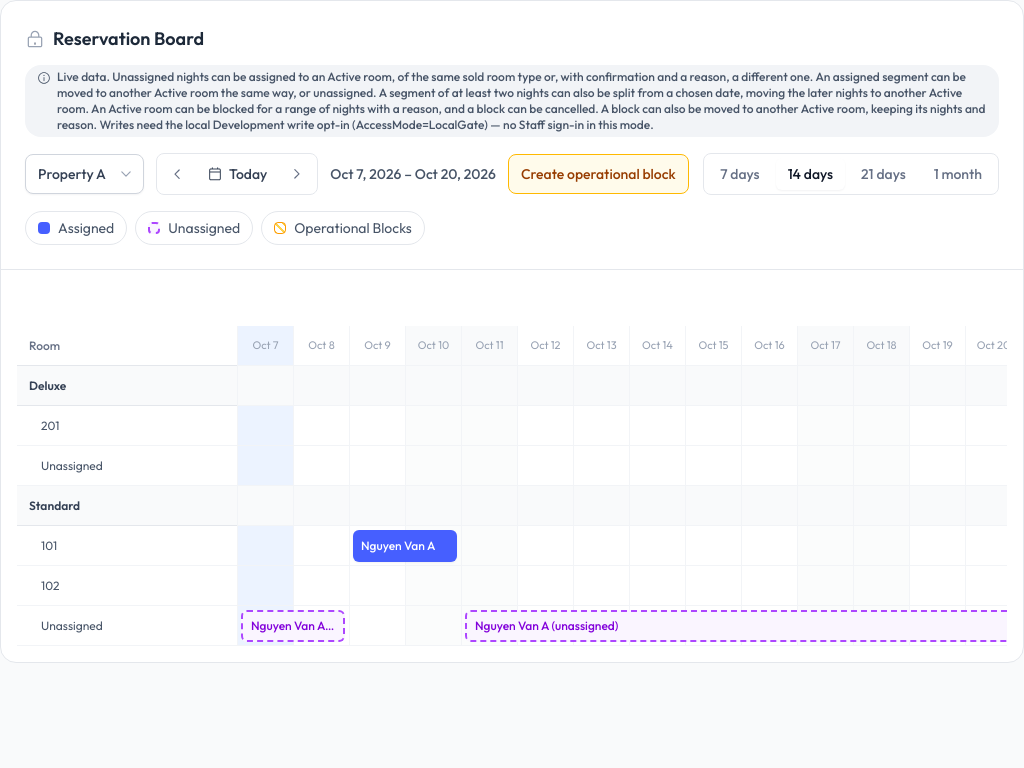
ReservationBoard — same-RoomType assignment (PMS-CAL-001.2-CP03A) › starts only one request for a double click, repeated Enter, or several submits in the same tick
Click the 1st button "Nguyen Van A (unassigned)" at (293, 626), box [241,610,345,642]
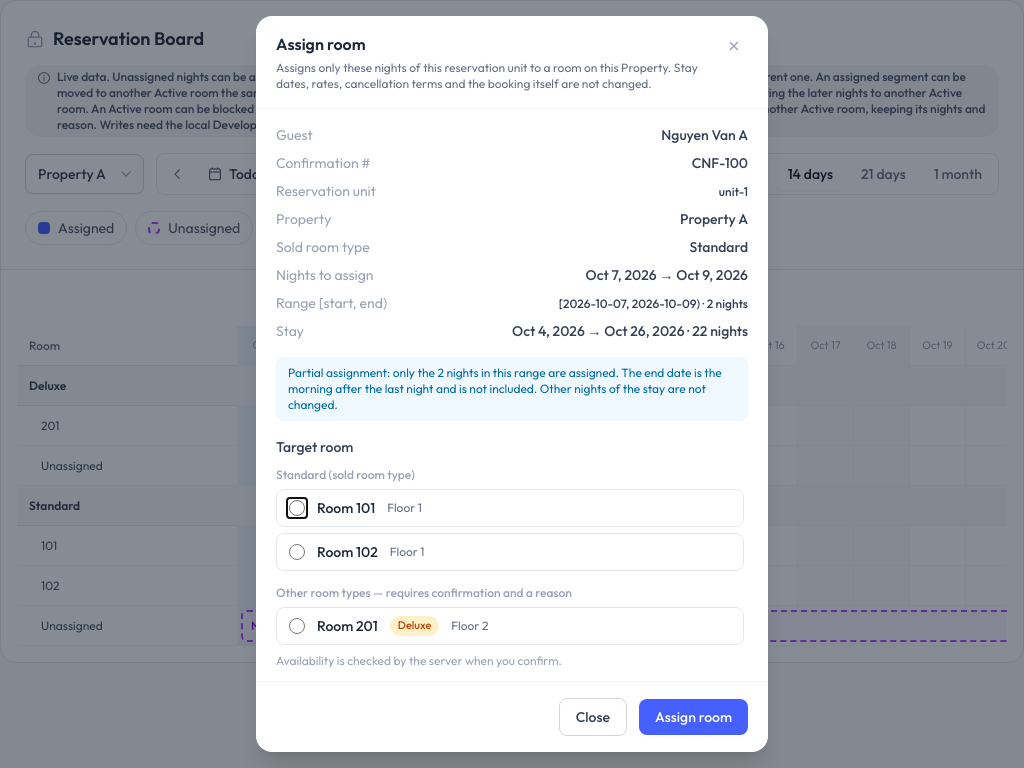
Click the radio button labelled "Room 102 Floor 1" at (297, 552), box [289,544,305,560]
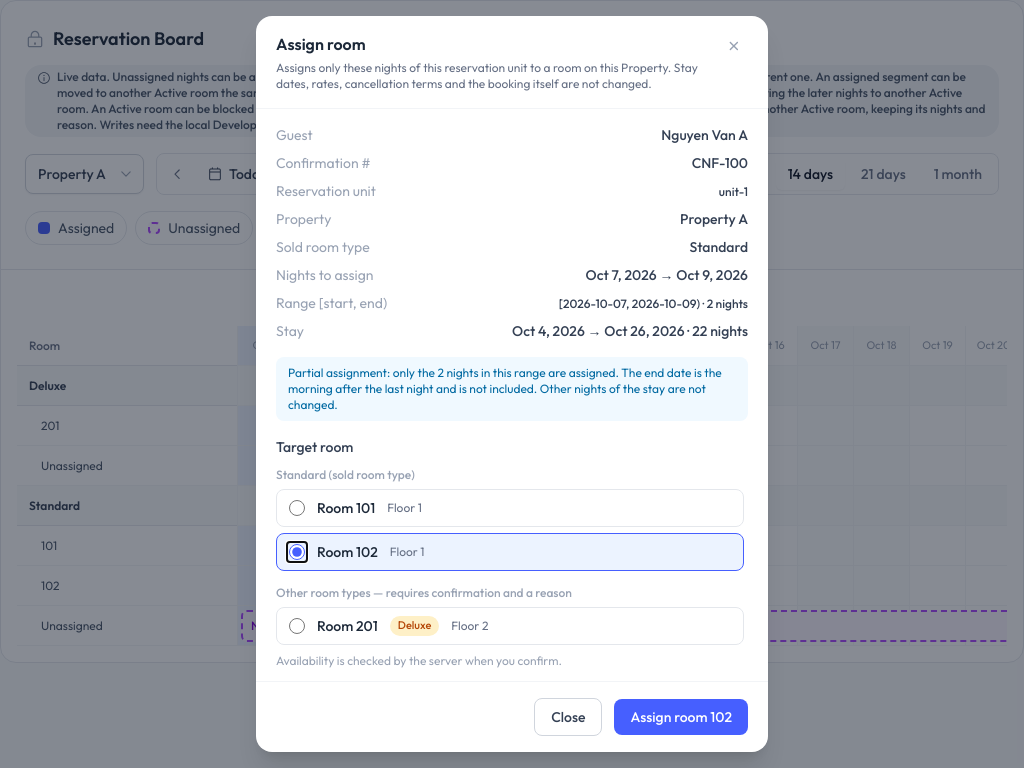
Submit the form named "Assign room 102", box [256,109,768,752]
Submit the form named "Assign room 102", box [256,109,768,752]
Submit the form named "Assign room 102", box [256,109,768,752]
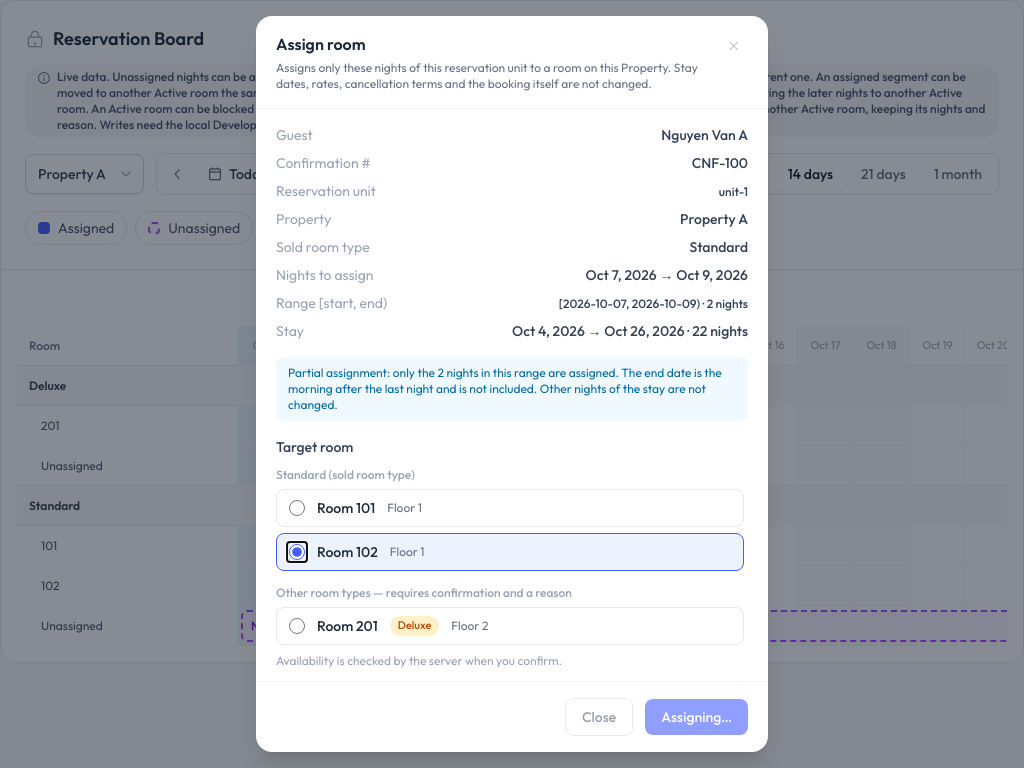
Double-click the button named "Assign room 102" at (697, 717), box [645,699,748,735]
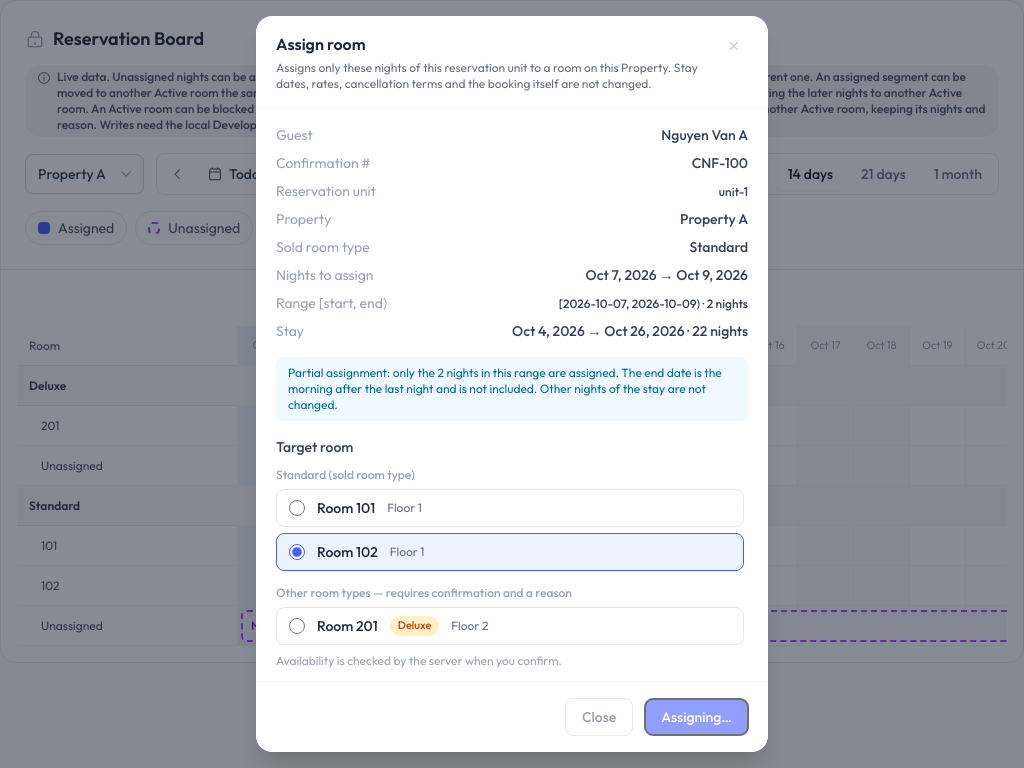
Press Enter Enter Enter
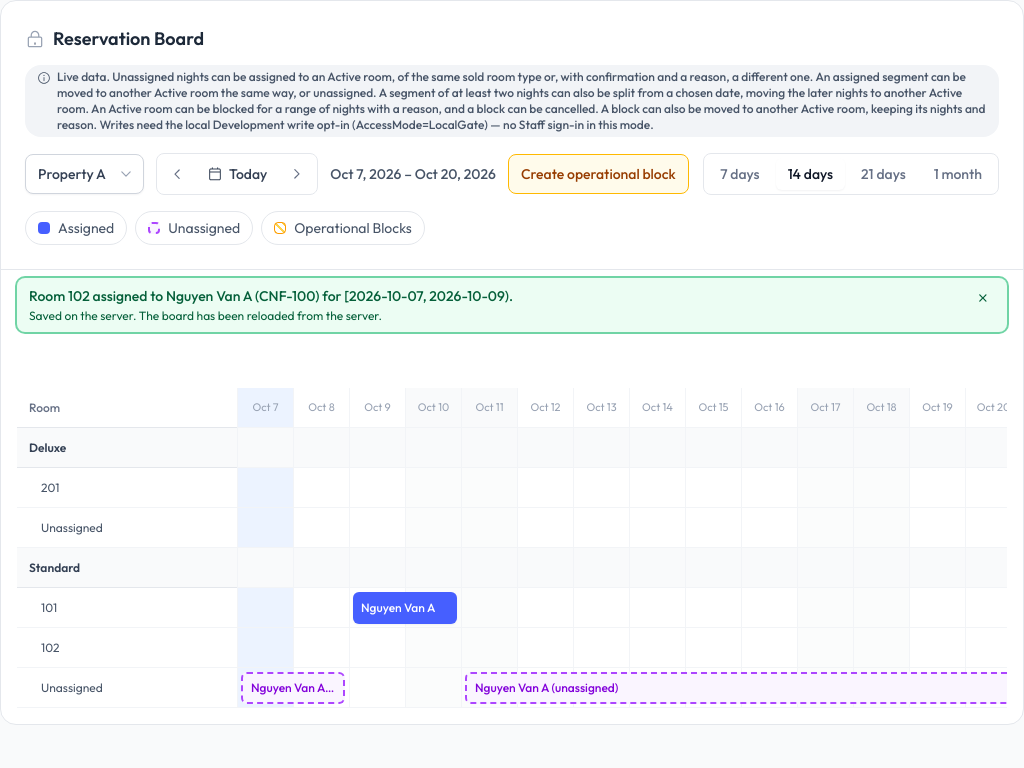
Check: the heading "Assign room" is gone
